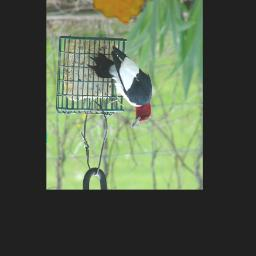Woodpecker: (87, 46, 152, 127)
